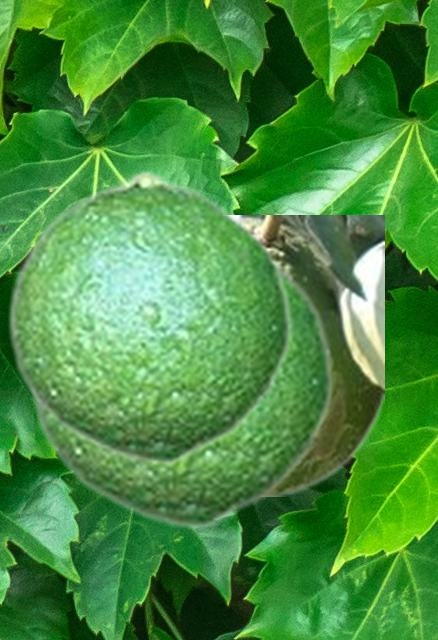dalandan: (5, 169, 292, 465), (26, 261, 334, 529), (238, 215, 383, 495)
